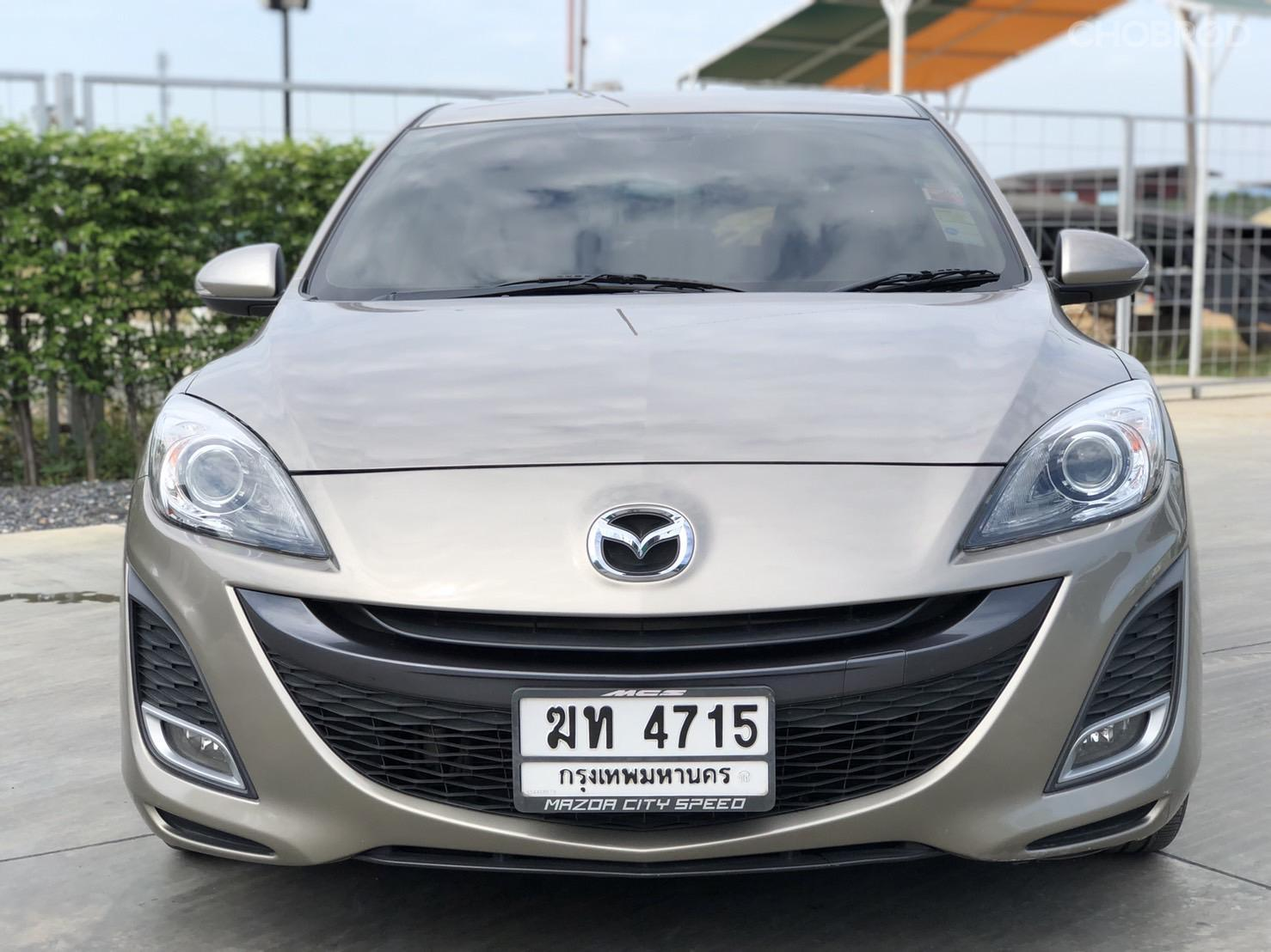license-plate: (509, 678, 782, 819)
